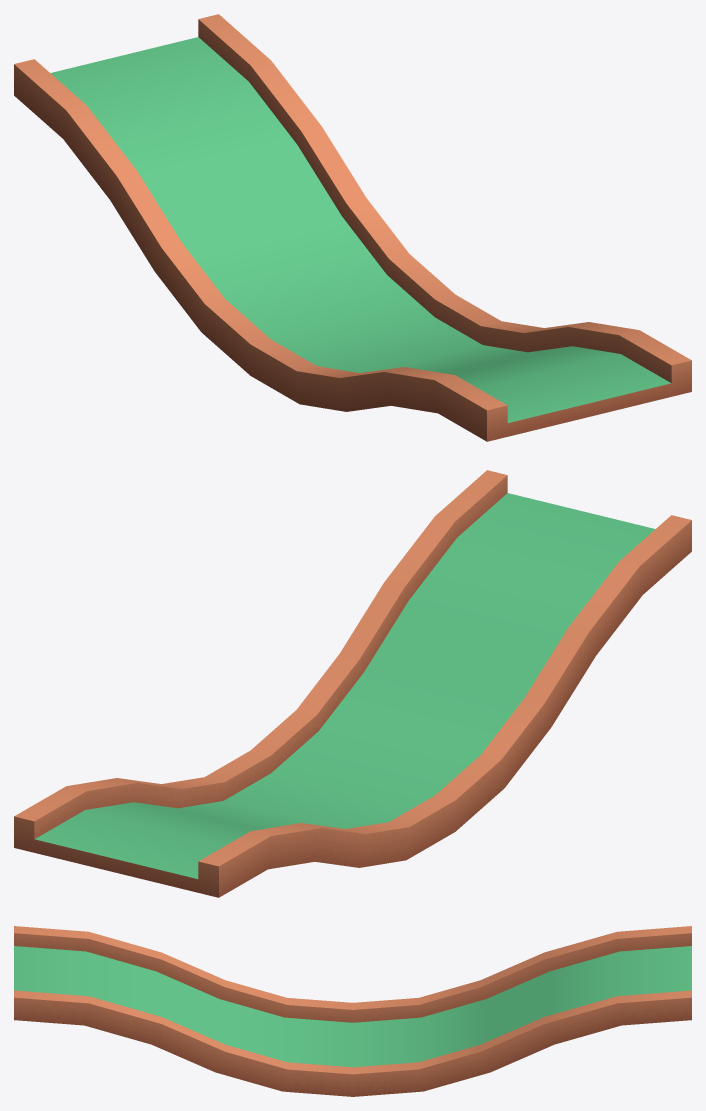
File: spline-default-straight-bump-down.glb
3 views of the same model, one above another, from view 1: azimuth 30°, elevation 25°; view 2: azimuth 150°, elevation 25°; view 3: azimuth 270°, elevation 25° (orthographic). The views are drawn at different scales.
Parts seen in each view (by area): view 1: spline-default-straight-bump-down; view 2: spline-default-straight-bump-down; view 3: spline-default-straight-bump-down.
Boxes of the visible parts, x1,y1,x2,y2 form: spline-default-straight-bump-down: (14, 14, 691, 441); spline-default-straight-bump-down: (14, 470, 691, 897); spline-default-straight-bump-down: (14, 926, 691, 1096).
Size of the model in its own units: 0.9999 by 0.6467 by 4.
1 material, 1 textured.
